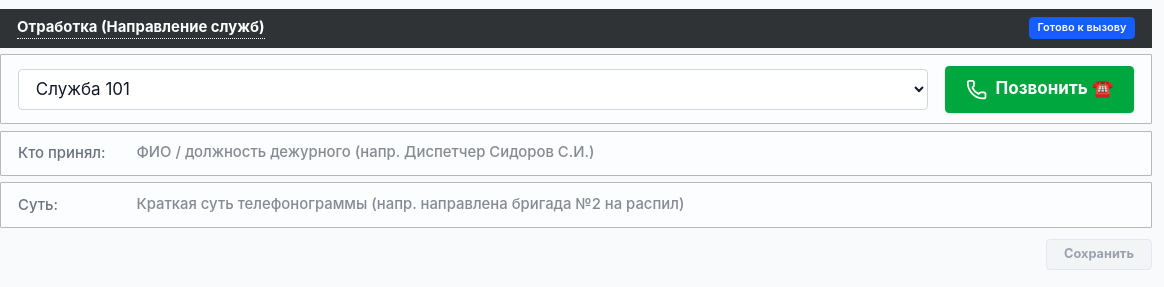
Test: the restored dispatch panel preserves a failed draft and only marks confirmed saves successful
In the field named "Кто принял": (635, 153) [136,142,1134,164], type "Дежурный"
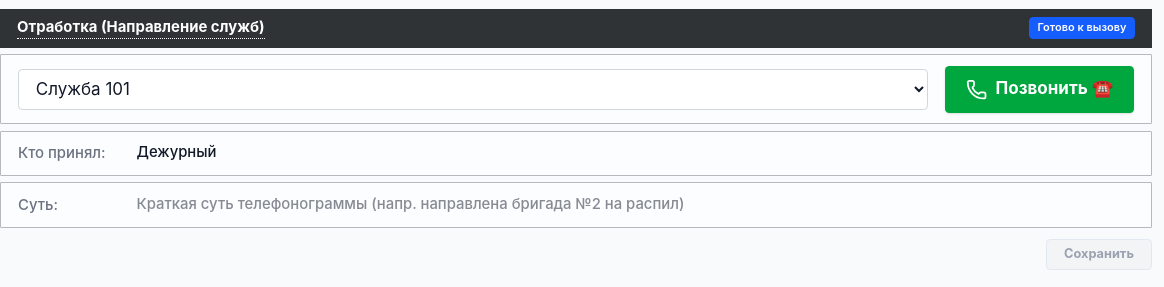
Replace the text in the field named "Суть сообщения" with "Бригада направлена": (635, 205) [136,194,1134,216]
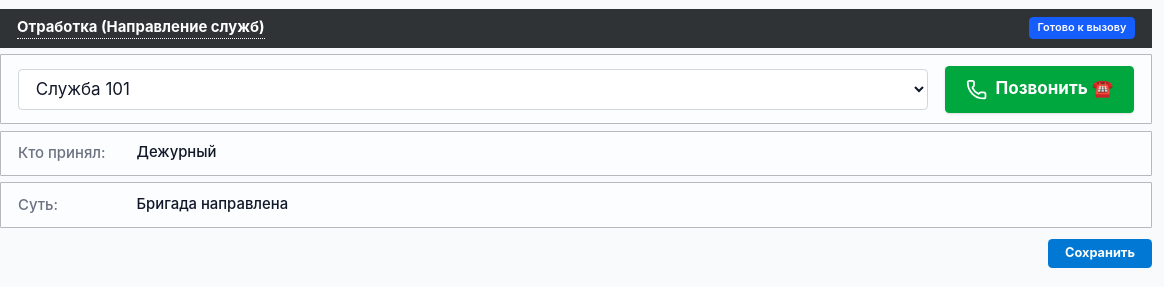
Click the button "Сохранить": (1100, 253) [1048,238,1152,268]
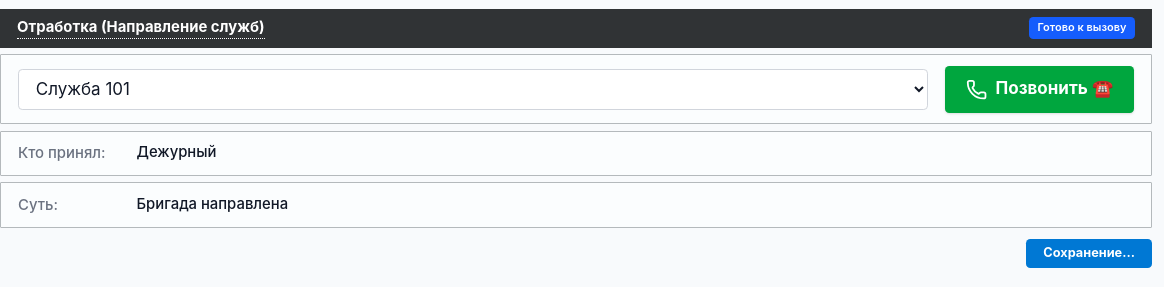
Click the button named "Сохранить": (1089, 253) [1026,238,1152,268]
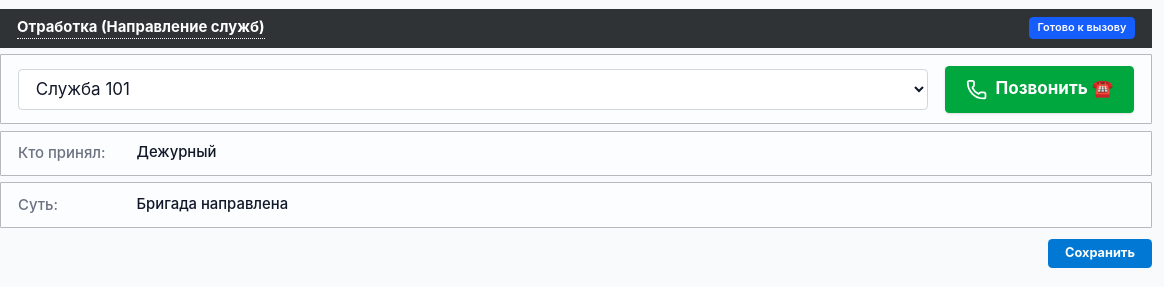
Expected: the text "✓ Сохранено" is not shown
Click the button "Сохранить": (1100, 253) [1048,238,1152,268]
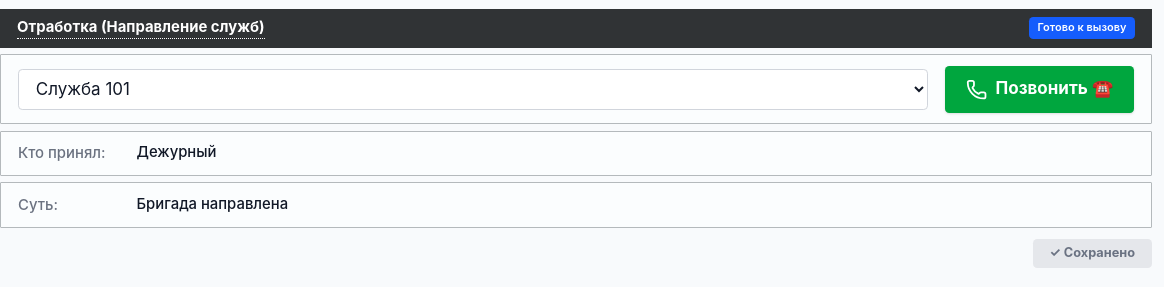
Now the button "✓ Сохранено" is shown, box [1032,238,1152,268]
